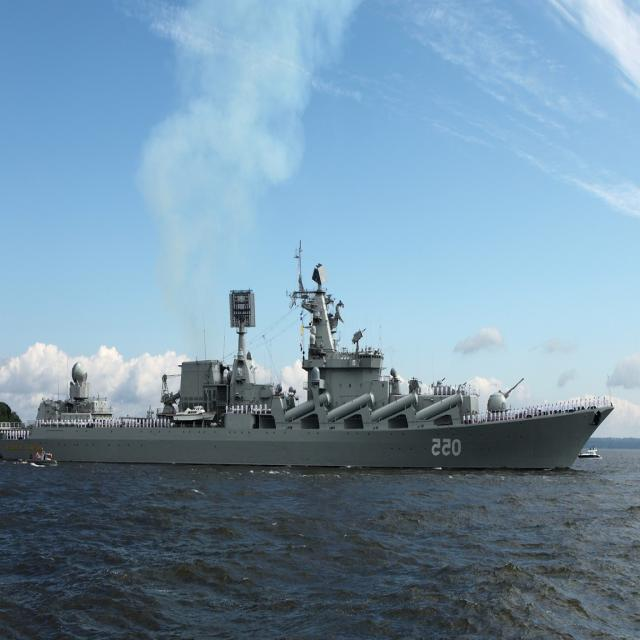navalvessels: (0, 211, 622, 502)
